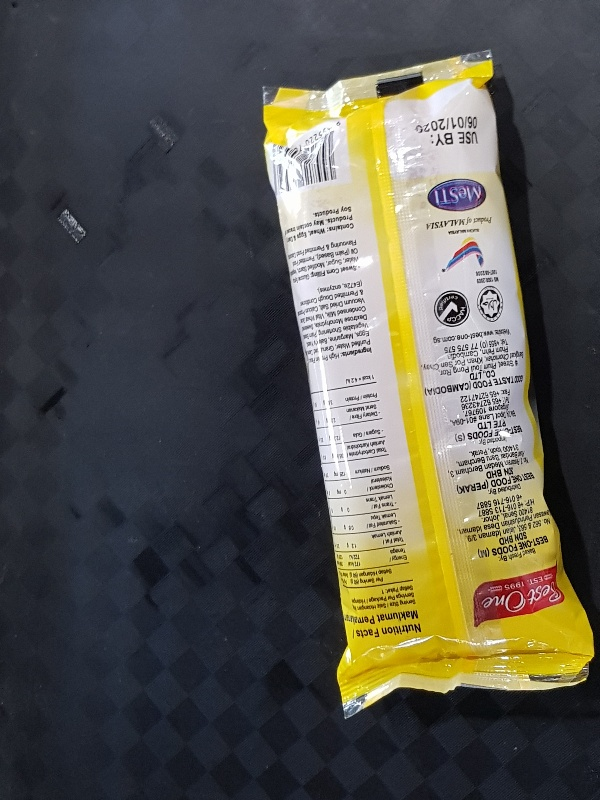Tinges Roll Sweet Corn: (256, 46, 600, 723)
